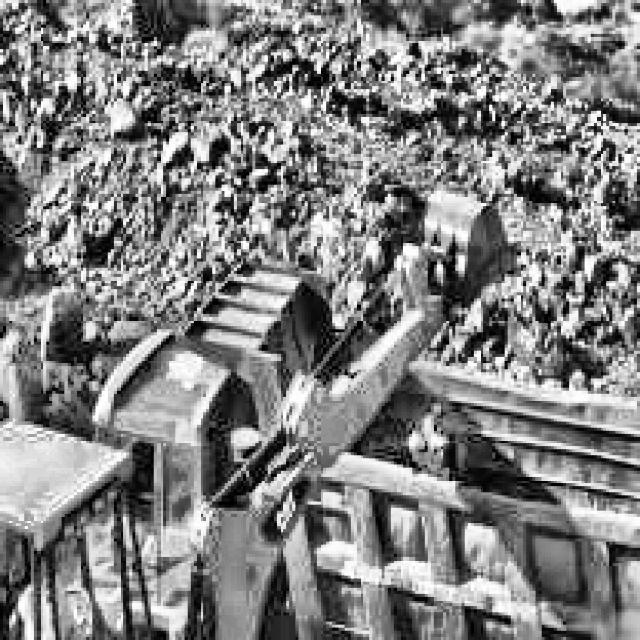dump_truck: (80, 249, 640, 640)
